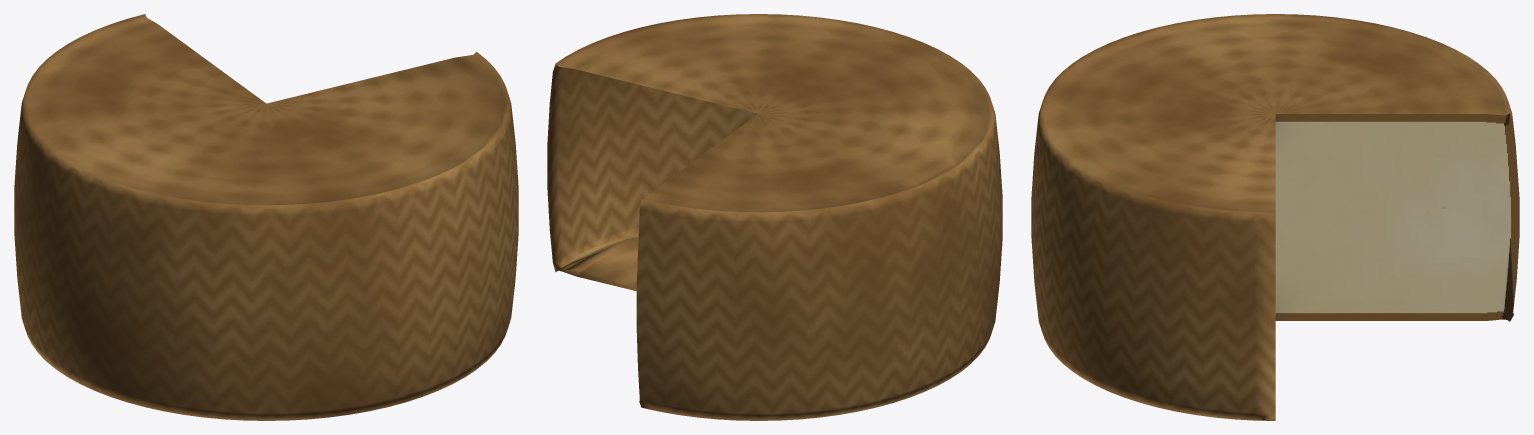
Rendered from queso_cortado.glb.
3 renders of one model, left to right at view 1: azimuth 30°, elevation 25°; view 2: azimuth 150°, elevation 25°; view 3: azimuth 270°, elevation 25°, orthographic. The views are drawn at different scales.
Visible parts, largest first — view 1: queso_cortado; view 2: queso_cortado; view 3: queso_cortado.
Boxes of the visible parts, <box> form: queso_cortado: <box>14,14,518,420</box>; queso_cortado: <box>547,14,1002,420</box>; queso_cortado: <box>1031,14,1519,420</box>.
Size of the model in its own units: 0.2136 by 0.1008 by 0.2136.
1 material, 1 textured.
